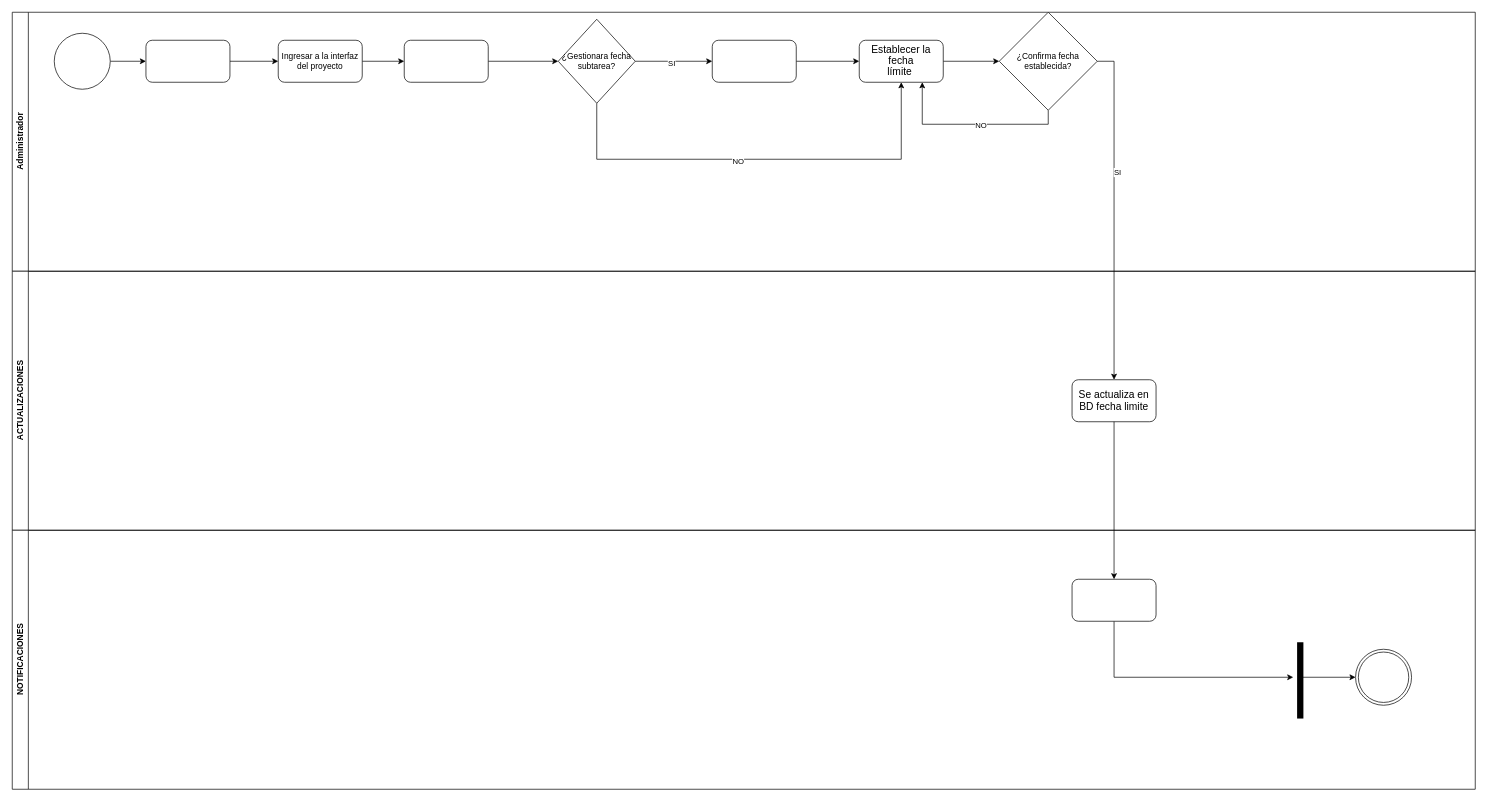
This 1488x802 diagram has some shape labels left out. Here are the shapes that lost their labels. From the top down, the centre of each, then its label:
the point at 187,61: Iniciar sesión en el sistema SSAP
the point at 446,61: Ingresa a la tarea para gestionar fecha
the point at 754,61: Ingresa a la subtarea para gestionar fecha
the point at 1113,600: Se Notifica Actualizacion fecha limite
